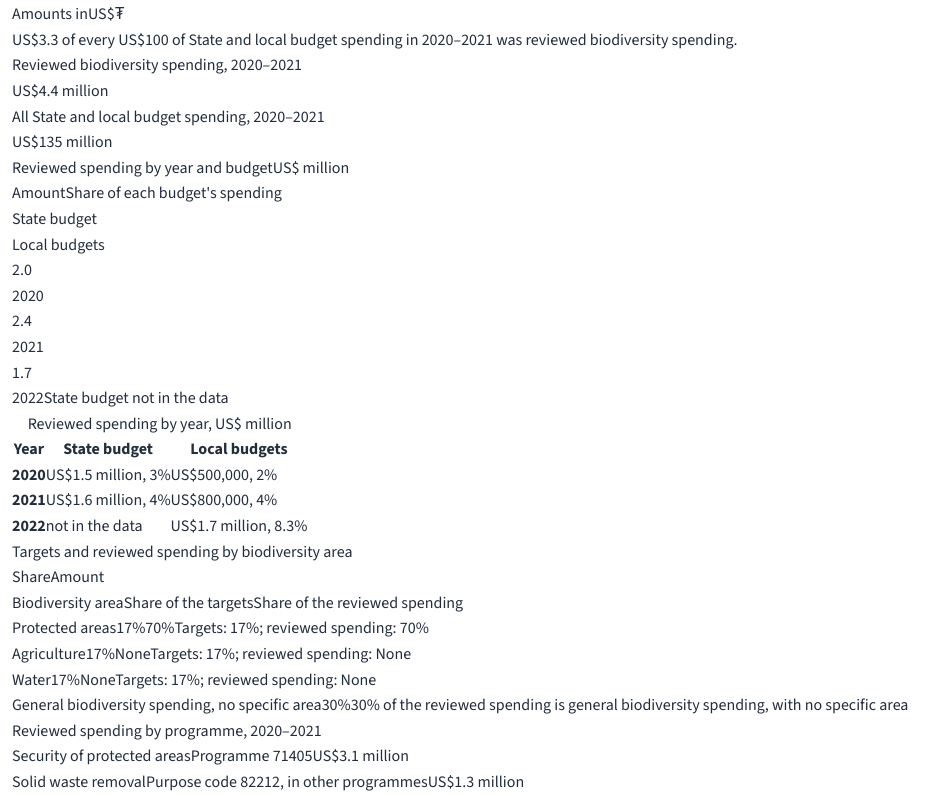
Test: SpendingSection, a rebuilt record › lists the review's own lines under a title, each opening to what it counted and who spends it
(page scrolled)
Expected: the heading "Reviewed spending by programme, 2020–2021" is shown, [12,720,322,742]
Click the button that starts with "Security of protected areas" at (210, 757), box [12,744,409,770]
(page scrolled)
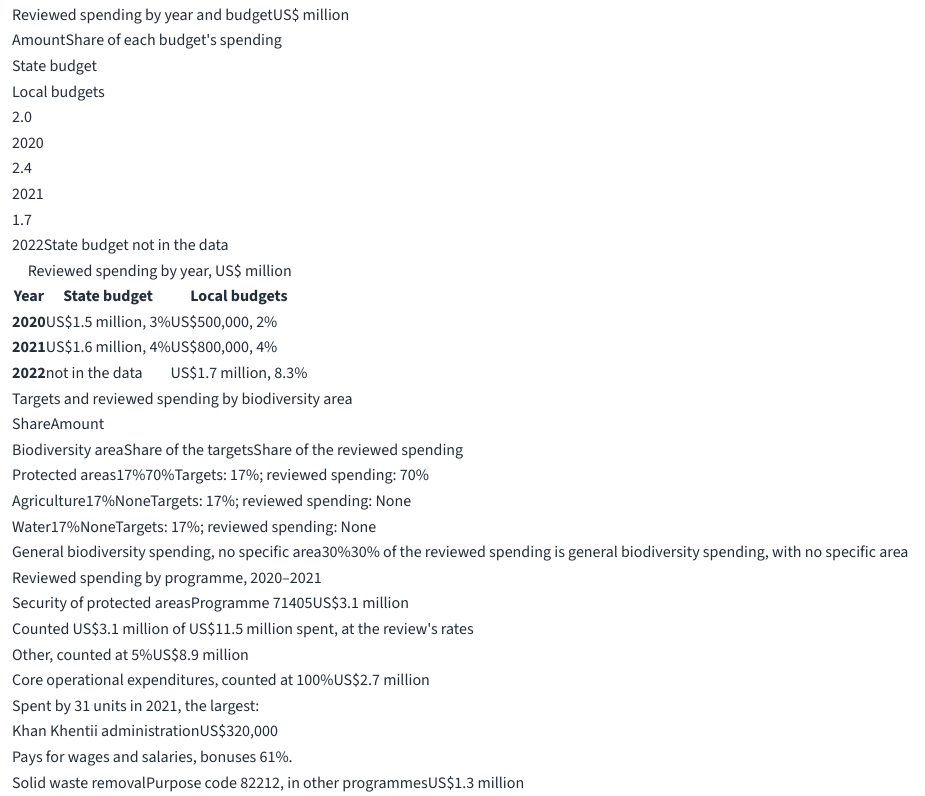
Now the text "Counted US$3.1 million of US$11.5 million spent, at the review's rates" is shown, box [12,618,474,640]
Now the text "Other, counted at 5%" is shown, box [12,644,152,666]
Now the text "Spent by 31 units in 2021, the largest:" is shown, box [12,695,259,717]
